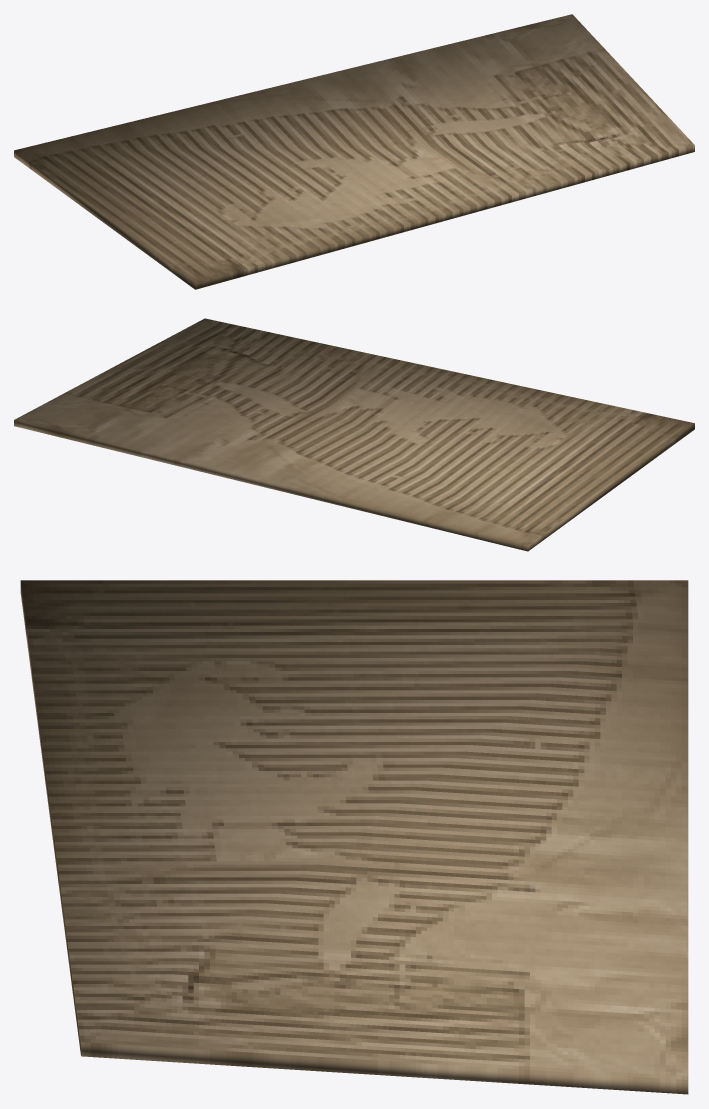
Rendered from cardboard_cutout_1.glb.
The picture shows the model from 3 angles, top to bottom: view 1: azimuth 30°, elevation 25°; view 2: azimuth 150°, elevation 25°; view 3: azimuth 270°, elevation 25°; orthographic projection. The views are drawn at different scales.
Parts seen in each view (by area): view 1: Cardboard_Cutout_1; view 2: Cardboard_Cutout_1; view 3: Cardboard_Cutout_1.
Part boxes in pixels (x1,y1,x2,y2): Cardboard_Cutout_1: [14, 14, 694, 289]; Cardboard_Cutout_1: [14, 318, 694, 551]; Cardboard_Cutout_1: [20, 580, 688, 1094].
Bounding box in the file's own units: 2 × 0.0228 × 1.12.
1 material, 1 textured.
